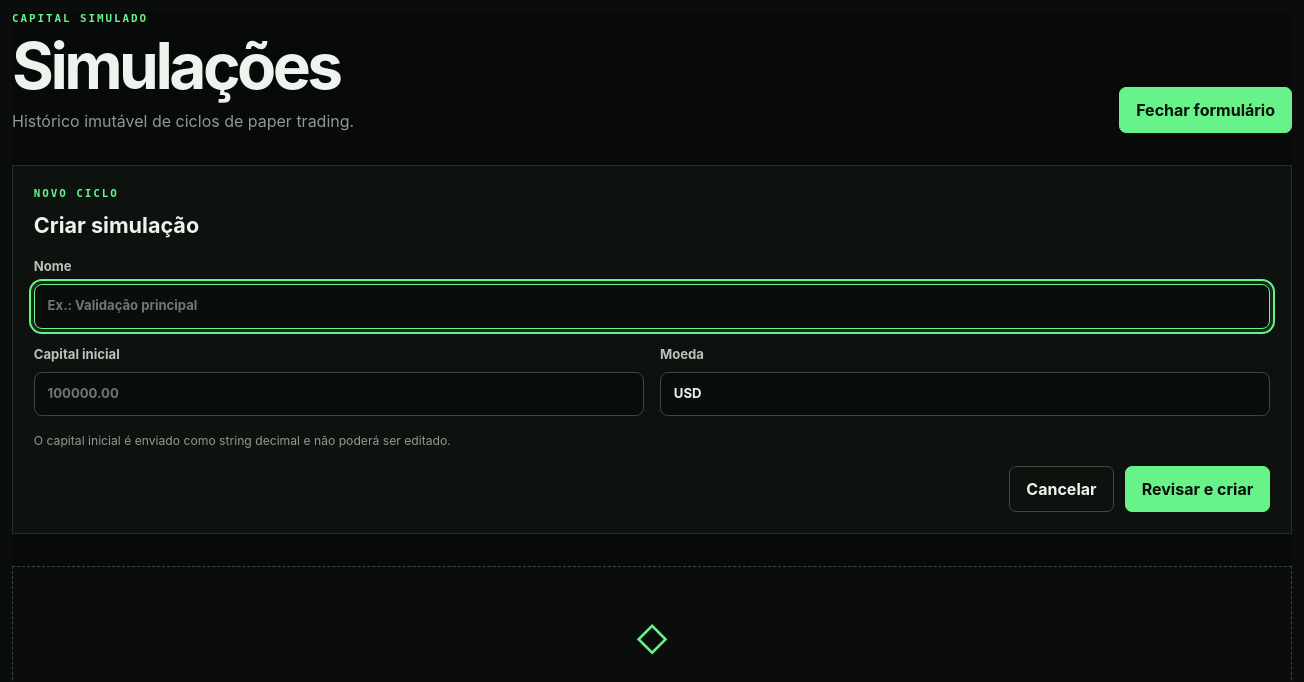
Scenario: dashboard e simulações › rejeita capital fora de numeric(20, 8) antes da confirmação
Type "Capital inválido" into the field labelled "Nome".
click(652, 306); type("Capital inválido")  # box top-left (34, 284), bottom-right (1270, 329)
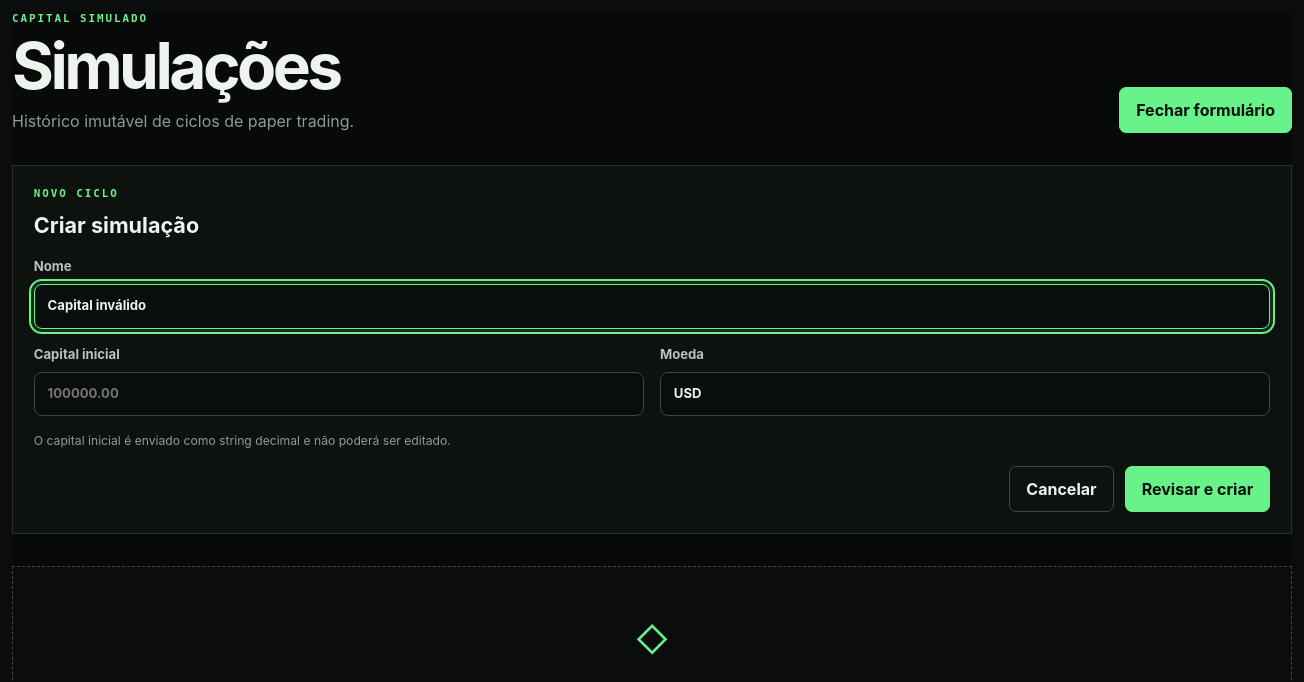
Type "1000000000000" into the field labelled "Capital inicial".
click(339, 394); type("1000000000000")  # box top-left (34, 372), bottom-right (644, 416)
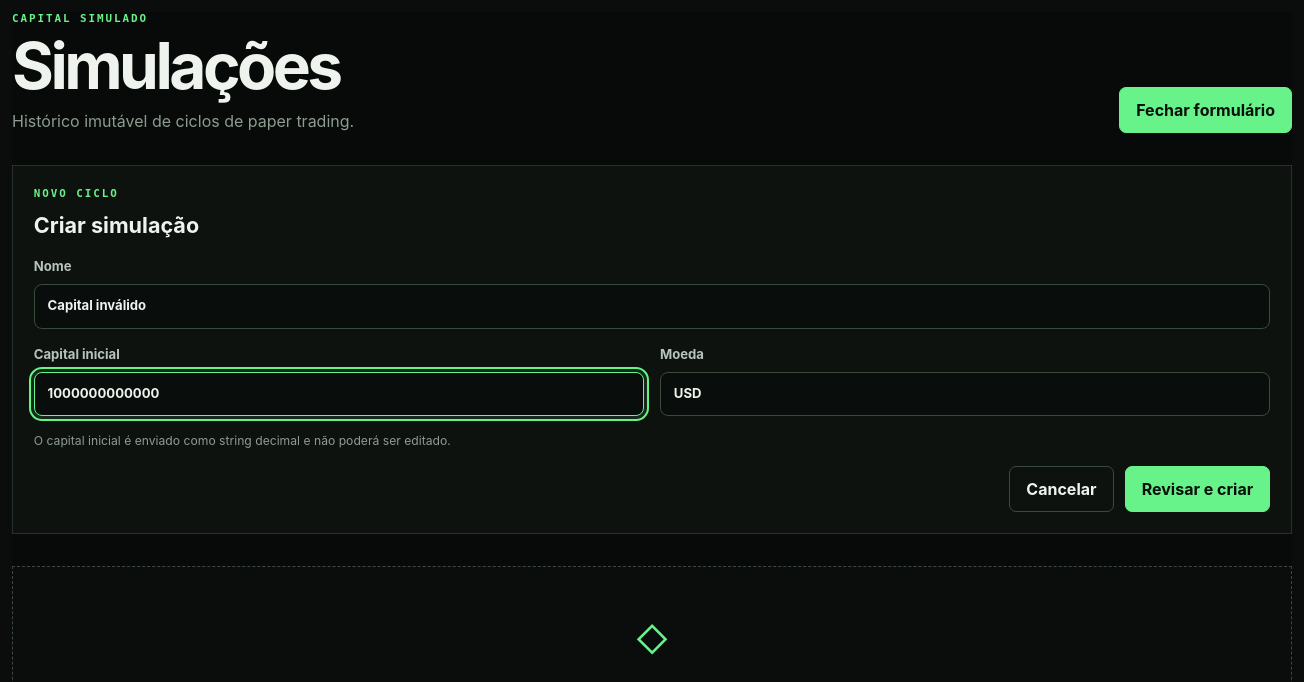
Click the button "Revisar e criar".
click(1197, 489)  # box top-left (1125, 466), bottom-right (1270, 512)
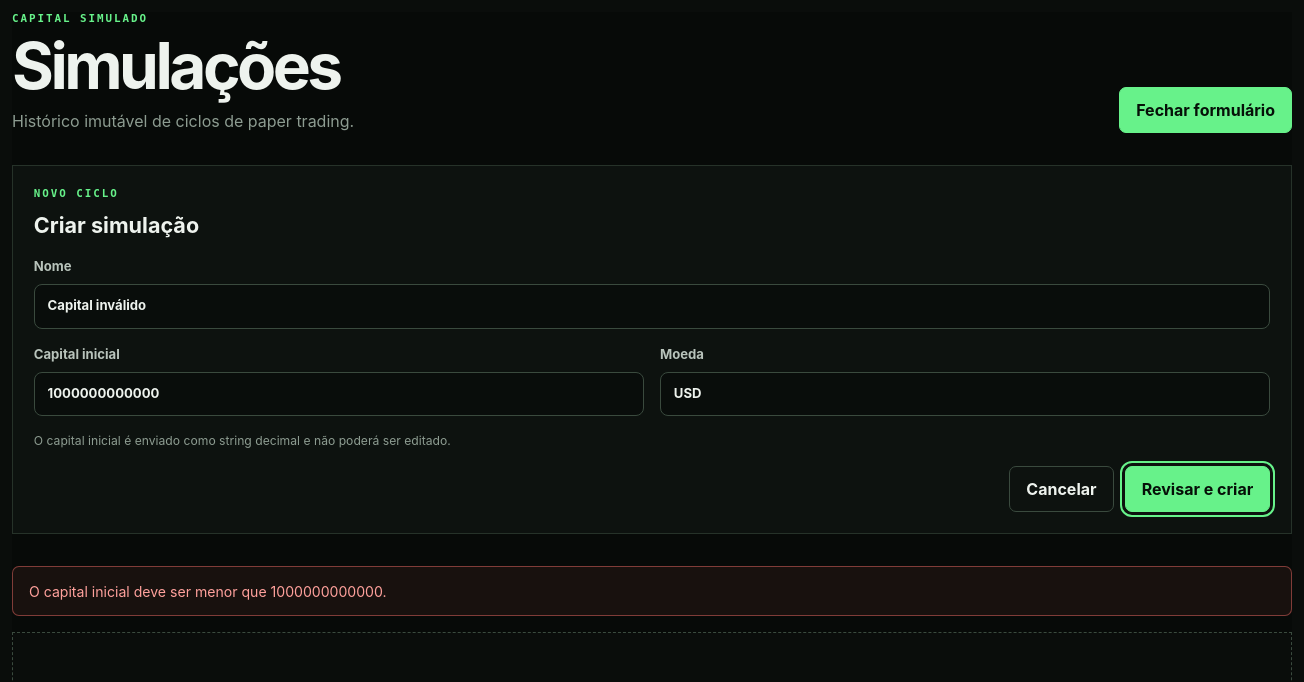
Check: the text "O capital inicial deve ser menor que 1000000000000." is shown, box top-left (12, 566), bottom-right (1292, 616)
